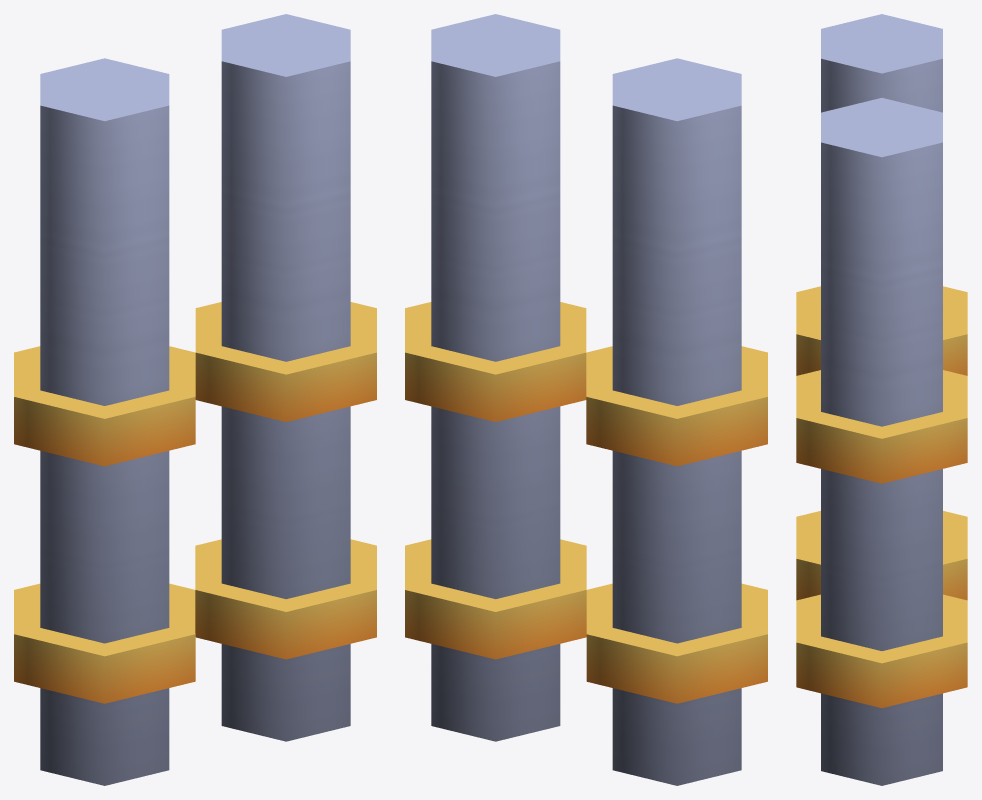
The model's file is wall-detail.obj.
3 renders of one model, left to right at view 1: azimuth 30°, elevation 25°; view 2: azimuth 150°, elevation 25°; view 3: azimuth 270°, elevation 25°, orthographic. The views are drawn at different scales.
Visible parts, largest first — view 1: wall-detail, Group; view 2: wall-detail, Group; view 3: wall-detail, Group.
Part boxes in pixels (x1,y1,x2,y2): wall-detail: [14, 14, 376, 785]; Group: [14, 302, 376, 466]; wall-detail: [405, 14, 767, 785]; Group: [405, 302, 767, 466]; wall-detail: [796, 14, 967, 785]; Group: [796, 286, 967, 483].
Bounding box in the file's own units: 0.4 × 0.7 × 0.1732.
Materials: 1 (1 with a texture image).
